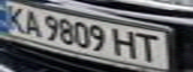0: (72, 19, 90, 48)
8: (54, 16, 75, 45)
9: (39, 12, 63, 42), (87, 23, 109, 53)
A: (18, 8, 45, 37)
H: (112, 27, 142, 58)
K: (0, 3, 30, 33)
T: (133, 30, 169, 62)
